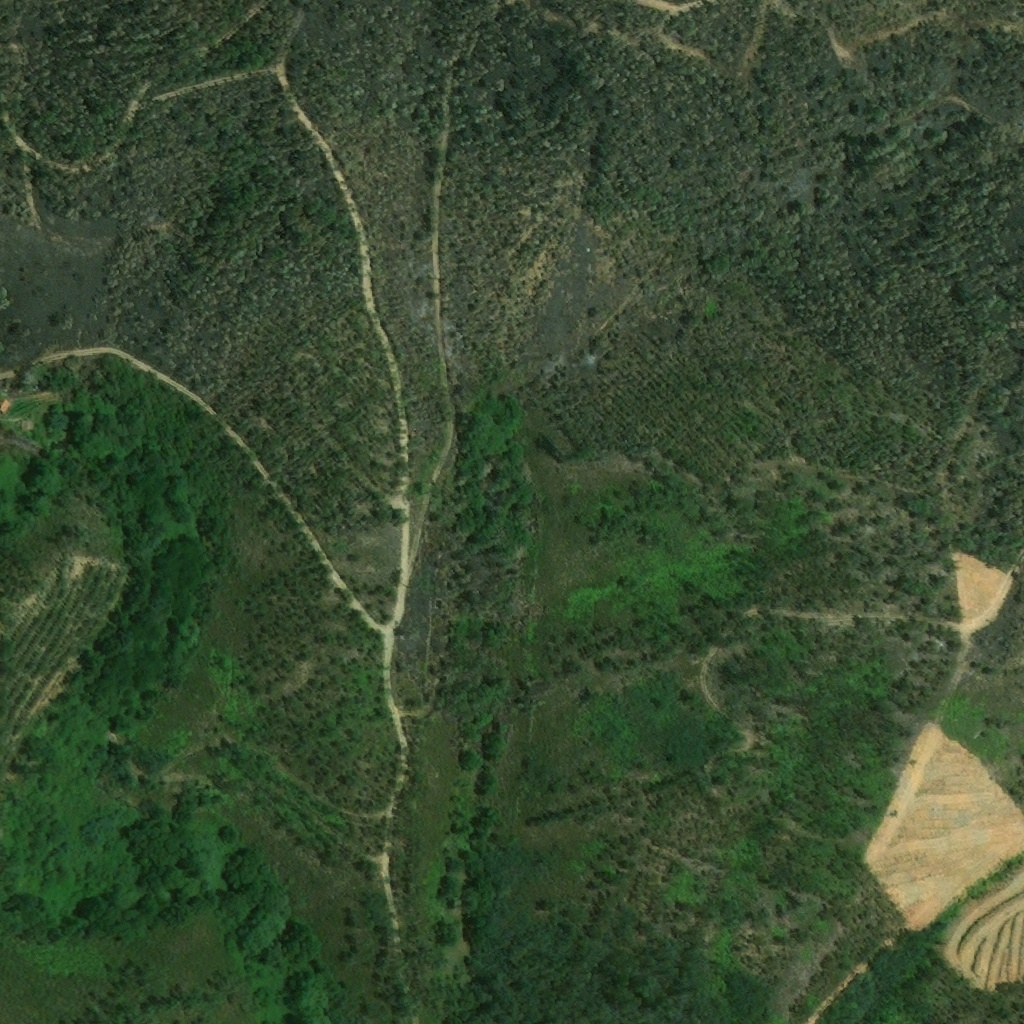0 no-damage: (0, 398, 10, 415)
